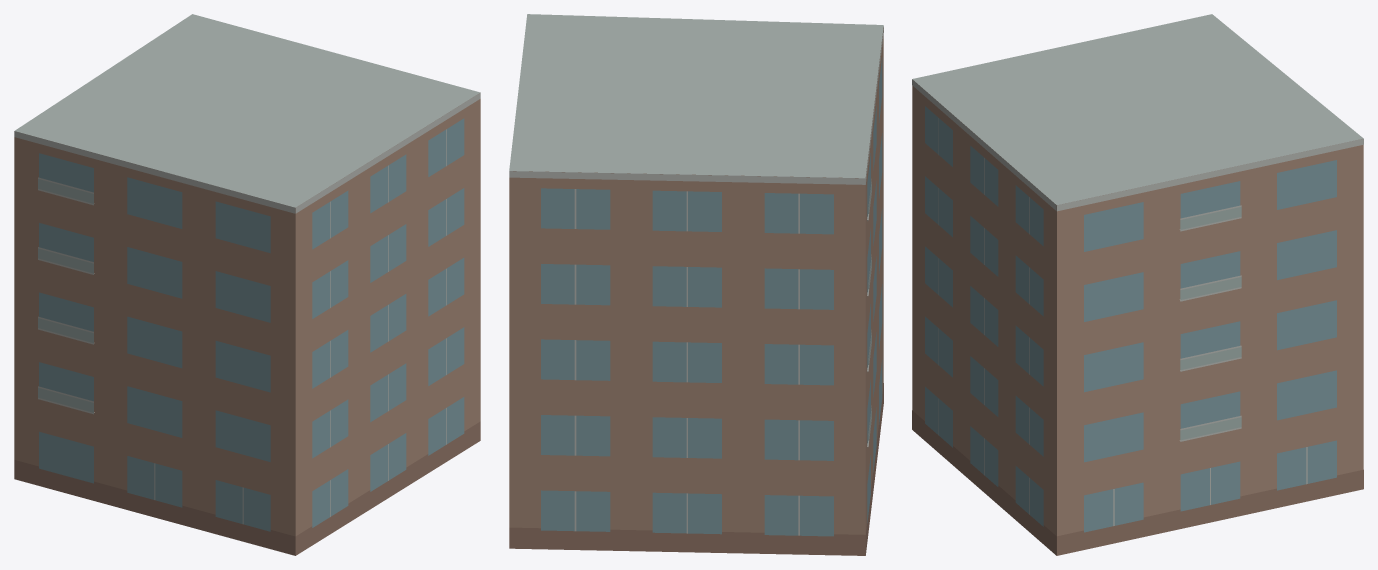
The model's file is survey-upis-32782890.glb.
3 renders of one model, left to right at view 1: azimuth 30°, elevation 25°; view 2: azimuth 150°, elevation 25°; view 3: azimuth 270°, elevation 25°, orthographic. The views are drawn at different scales.
Visible parts, largest first — view 1: survey-upis-32782890.tmp; view 2: survey-upis-32782890.tmp; view 3: survey-upis-32782890.tmp.
Boxes of the visible parts, left/top/right/bottom form: survey-upis-32782890.tmp: left=14, top=14, right=480, bottom=555; survey-upis-32782890.tmp: left=509, top=14, right=883, bottom=555; survey-upis-32782890.tmp: left=912, top=14, right=1363, bottom=555.
Bounding box in the file's own units: 16.27 × 13.9 × 16.24.
